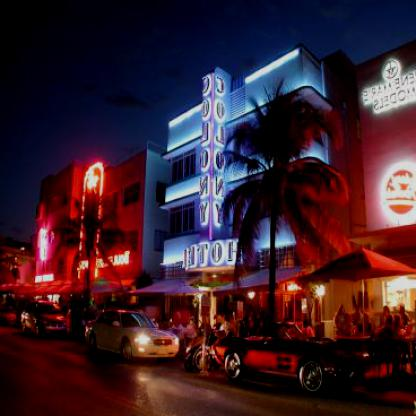car: (210, 318, 370, 396), (84, 304, 178, 364), (20, 298, 68, 338), (1, 302, 19, 329)
